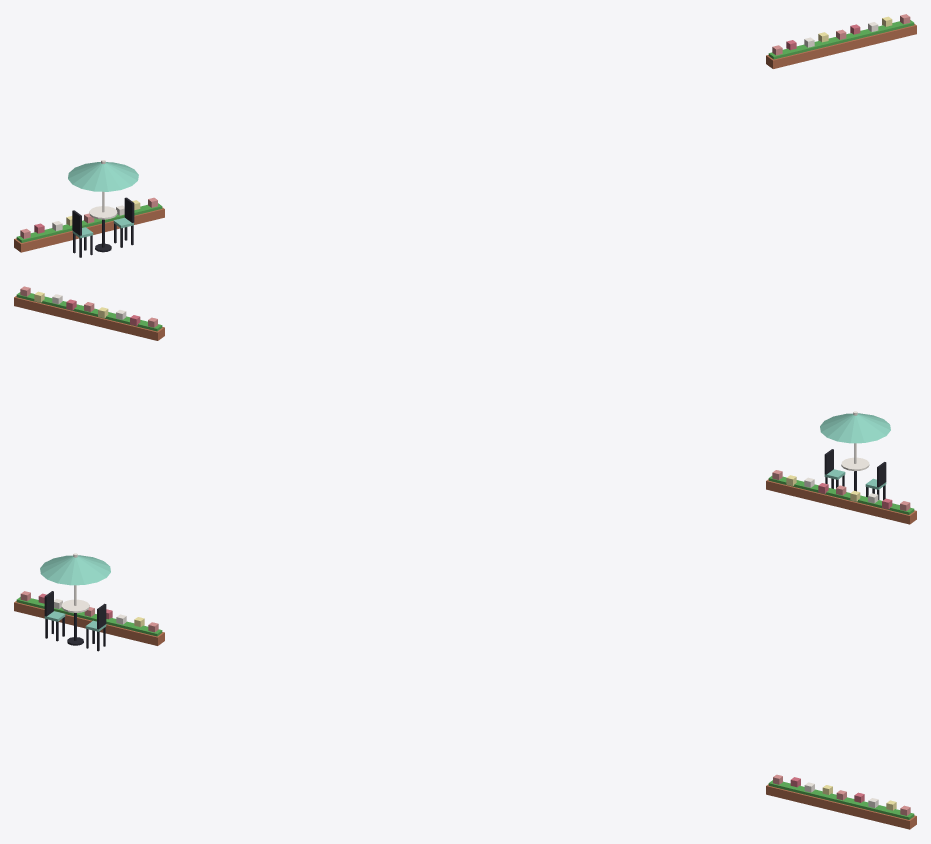
The model's file is CatCafe_Plot_Tier2_60x46.glb.
3 renders of one model, top to bottom at view 1: azimuth 30°, elevation 25°; view 2: azimuth 150°, elevation 25°; view 3: azimuth 330°, elevation 25°, orthographic.
Parts seen in each view (by area): view 1: CatCafe_Plot_Tier2_60x46, CatCafe_Plot_Tier2_60x46_Bistro, CatCafe_Plot_Tier2_60x46_Flowers; view 2: CatCafe_Plot_Tier2_60x46, CatCafe_Plot_Tier2_60x46_Bistro, CatCafe_Plot_Tier2_60x46_Flowers; view 3: CatCafe_Plot_Tier2_60x46, CatCafe_Plot_Tier2_60x46_Bistro, CatCafe_Plot_Tier2_60x46_Flowers.
Part boxes in pixels (x1,y1,x2,y2): CatCafe_Plot_Tier2_60x46: (14,14,916,252); CatCafe_Plot_Tier2_60x46_Bistro: (68,160,138,257); CatCafe_Plot_Tier2_60x46_Flowers: (16,20,914,242); CatCafe_Plot_Tier2_60x46: (14,286,916,524); CatCafe_Plot_Tier2_60x46_Bistro: (820,411,890,499); CatCafe_Plot_Tier2_60x46_Flowers: (16,292,914,514); CatCafe_Plot_Tier2_60x46: (14,591,916,829); CatCafe_Plot_Tier2_60x46_Bistro: (40,553,110,651); CatCafe_Plot_Tier2_60x46_Flowers: (16,597,914,819).
Bounding box in the file's own units: 54.8 × 5.15 × 3.8.
1 material, 1 textured.
